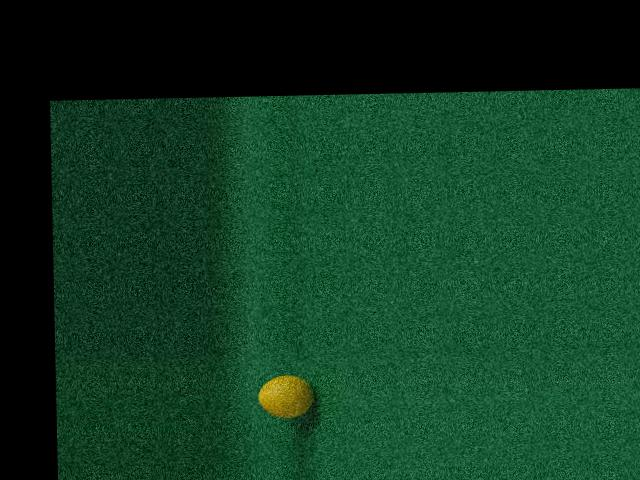egg: (257, 373, 314, 417)
